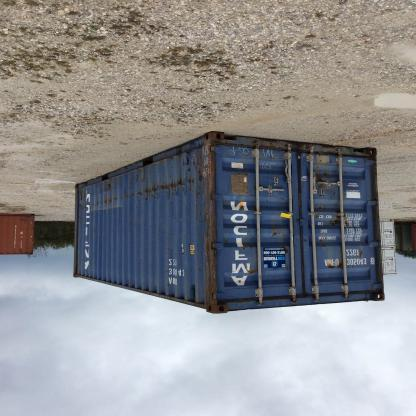Damage: (202, 140, 222, 296), (134, 173, 206, 199), (90, 190, 136, 208), (229, 171, 251, 194), (183, 154, 203, 172), (254, 141, 288, 151), (314, 170, 329, 192), (76, 190, 88, 212), (319, 143, 339, 156), (194, 200, 204, 226), (161, 244, 177, 258), (313, 205, 327, 219), (326, 214, 340, 226), (236, 244, 256, 252), (327, 262, 343, 270), (355, 247, 365, 259), (167, 200, 181, 208), (272, 194, 290, 200), (270, 230, 282, 238), (133, 214, 139, 229), (105, 181, 115, 190), (235, 202, 244, 211), (281, 247, 289, 257), (158, 226, 168, 234), (193, 266, 203, 274), (178, 248, 188, 256), (317, 238, 327, 245), (245, 268, 256, 274), (263, 198, 271, 206), (330, 190, 338, 197), (128, 212, 132, 226), (196, 233, 204, 239), (92, 224, 96, 234), (223, 240, 230, 245), (111, 227, 115, 233), (134, 233, 138, 239), (180, 219, 186, 223), (170, 233, 177, 236), (173, 216, 177, 221), (184, 205, 188, 210), (137, 200, 141, 205), (143, 202, 149, 205), (142, 212, 145, 218), (101, 235, 107, 238), (190, 222, 194, 226), (160, 217, 165, 220), (144, 221, 148, 224), (142, 232, 144, 236), (149, 225, 151, 228), (168, 219, 170, 222)
